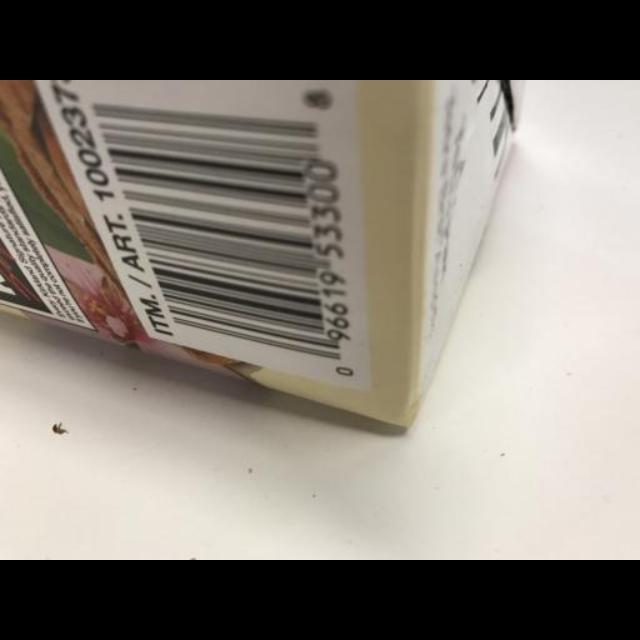papelão: (3, 82, 517, 440)
